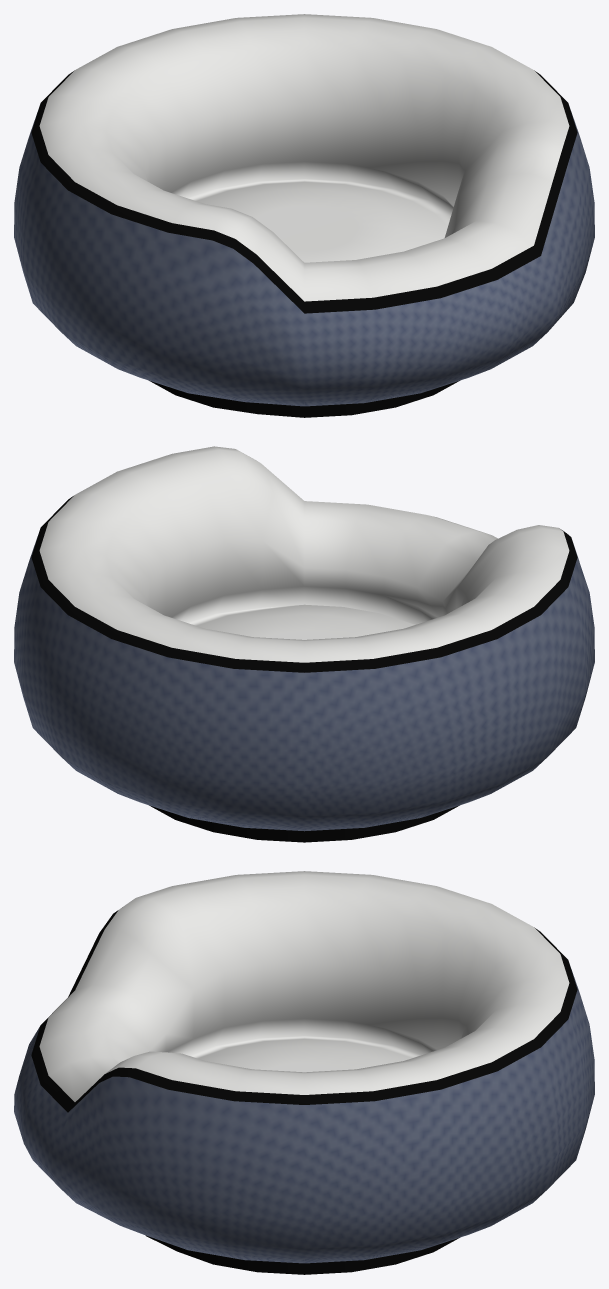
The model's file is SM_Pillow_Checkout_Counter.fbx.
The picture shows the model from 3 angles, top to bottom: view 1: azimuth 30°, elevation 25°; view 2: azimuth 150°, elevation 25°; view 3: azimuth 270°, elevation 25°; orthographic projection.
Visible parts, largest first — view 1: SM_Pillow_Checkout_Counter; view 2: SM_Pillow_Checkout_Counter; view 3: SM_Pillow_Checkout_Counter.
Part boxes in pixels (x1,y1,x2,y2): SM_Pillow_Checkout_Counter: [14, 14, 594, 417]; SM_Pillow_Checkout_Counter: [14, 446, 594, 842]; SM_Pillow_Checkout_Counter: [14, 871, 594, 1274].
Size of the model in its own units: 1.14 by 0.4774 by 1.14.
